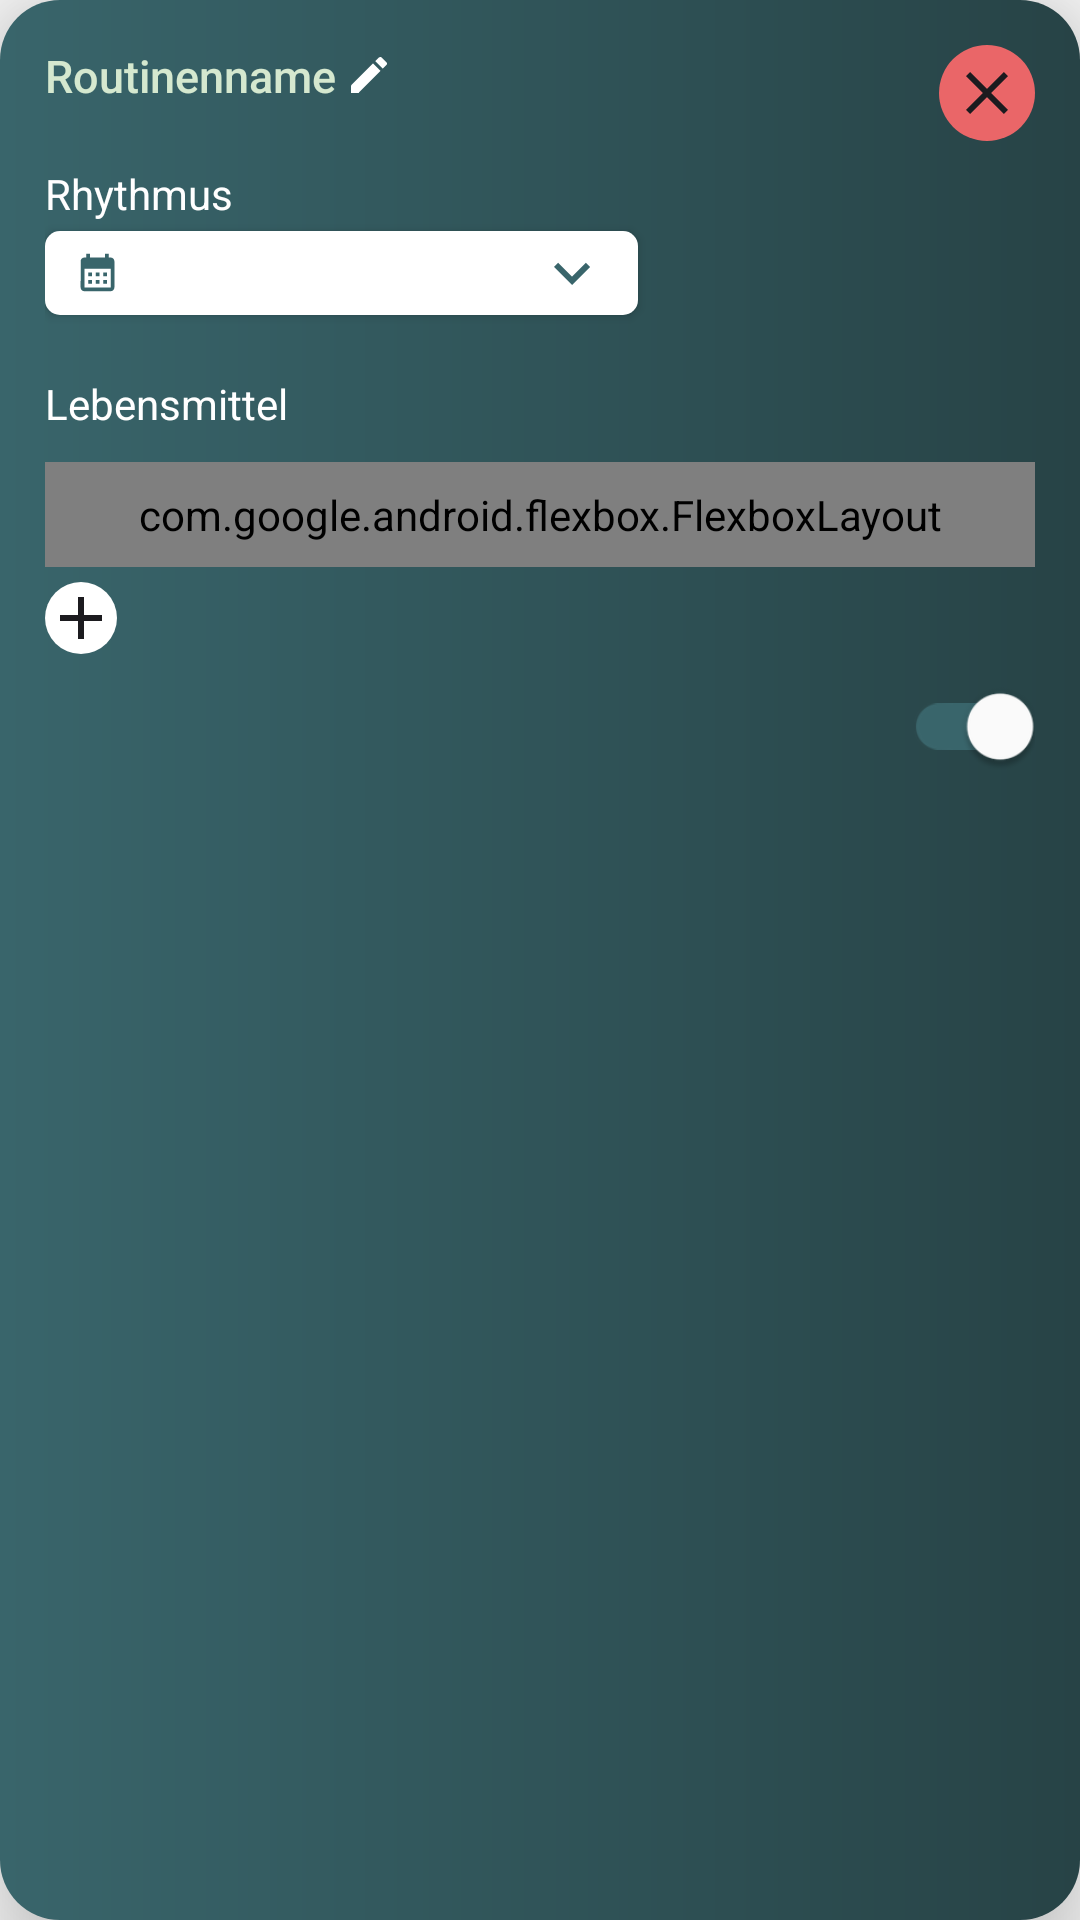

Point at icon controls on the screen. Image size 1080x1920, points as (x=x, y=y).
add: (x=81, y=618)
remove: (x=987, y=93)
